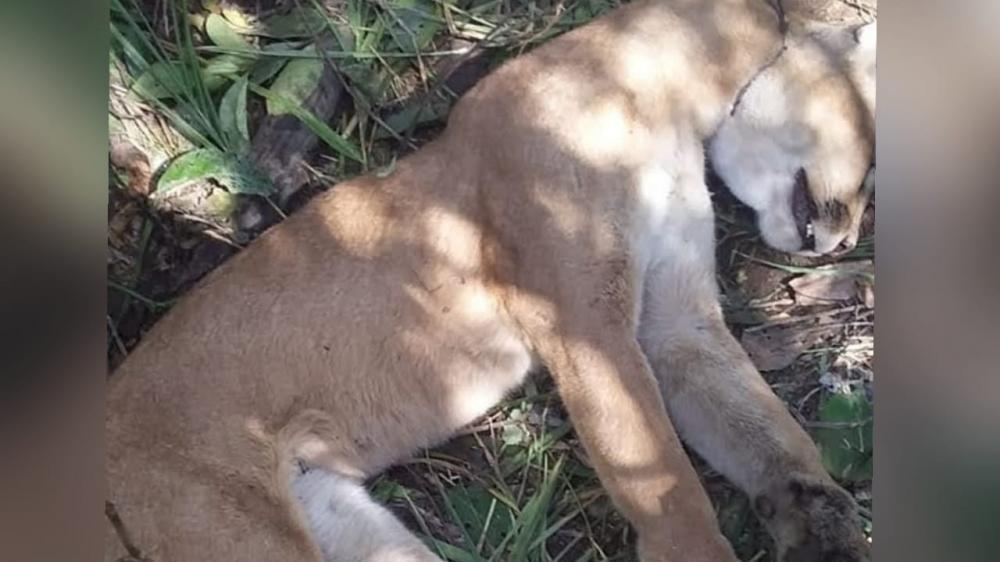OncaParda: (130, 12, 859, 553)
